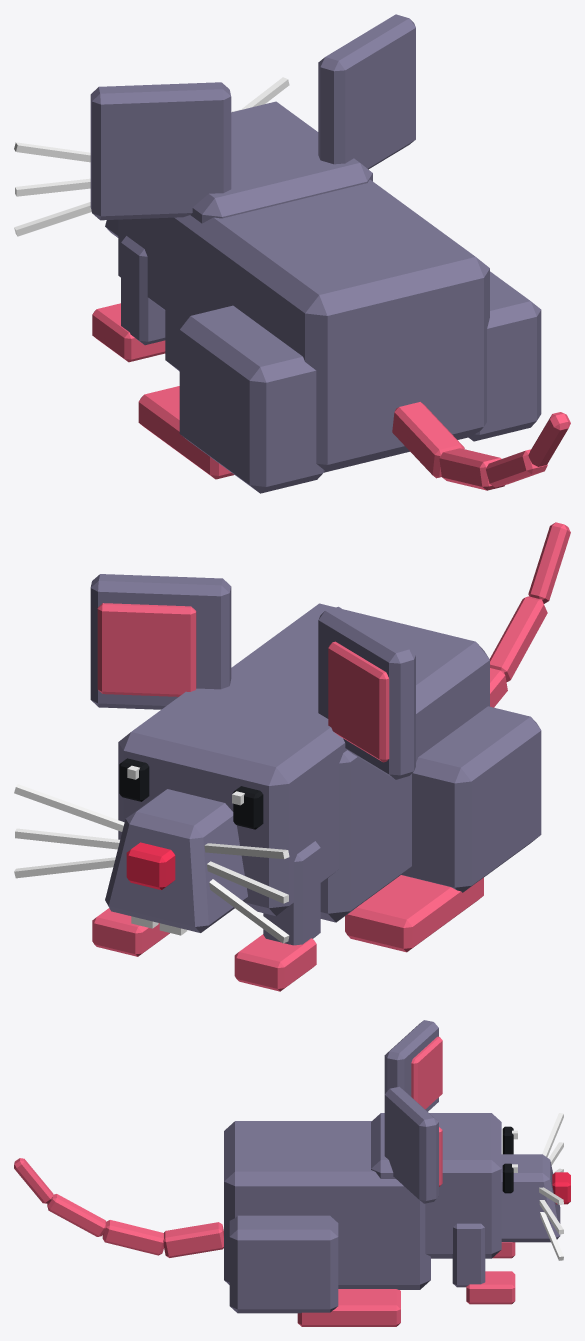
File: Mouse.fbx
3 renders of one model, top to bottom at view 1: azimuth 30°, elevation 25°; view 2: azimuth 150°, elevation 25°; view 3: azimuth 270°, elevation 25°, orthographic. The views are drawn at different scales.
Visible parts, largest first — view 1: Mouse; view 2: Mouse; view 3: Mouse.
Part boxes in pixels (box(x1,y1,x2,y2)): Mouse: box(14, 14, 570, 493); Mouse: box(14, 522, 570, 991); Mouse: box(14, 1020, 570, 1326).
Size of the model in its own units: 453 by 435 by 1024.
